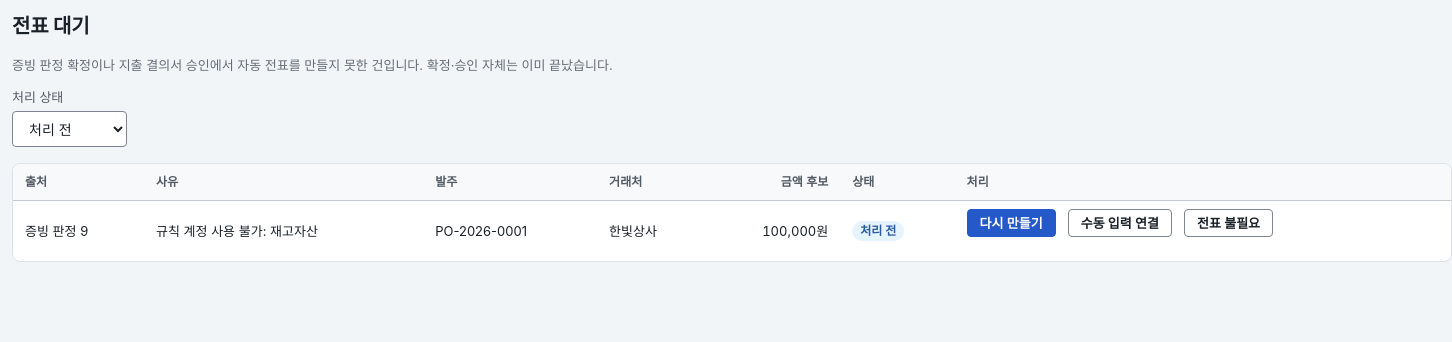
Scenario: 전표 대기 화면(B31) › 사유를 한국어로 보이고 재무는 다시 만들기를 요청한다
The image size is (1452, 342).
Check: the text "규칙 계정 사용 불가: 재고자산" is shown, box [144, 200, 423, 260]
Step 1. Click the button "다시 만들기" → (1011, 222), box [967, 208, 1056, 236]
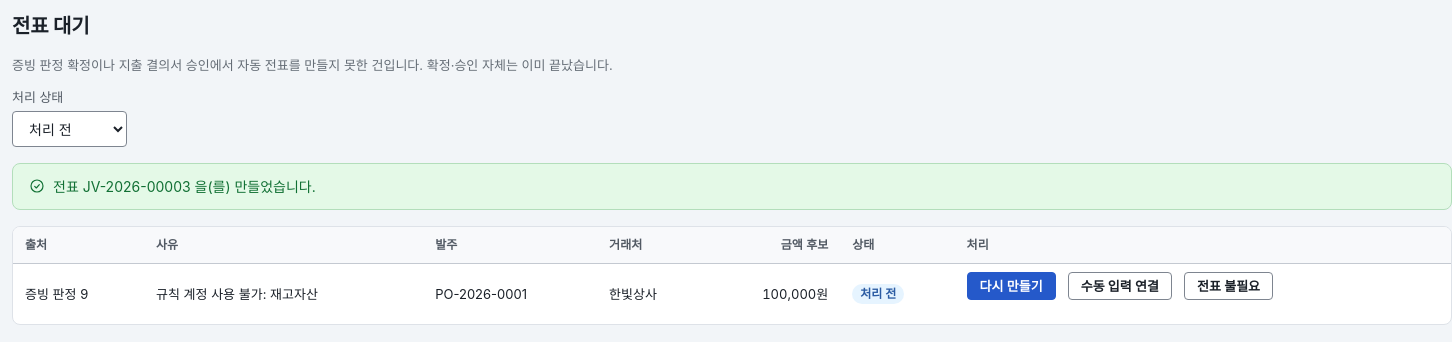
Check: the text "전표 JV-2026-00003 을(를) 만들었습니다." is shown, box [53, 176, 316, 197]
